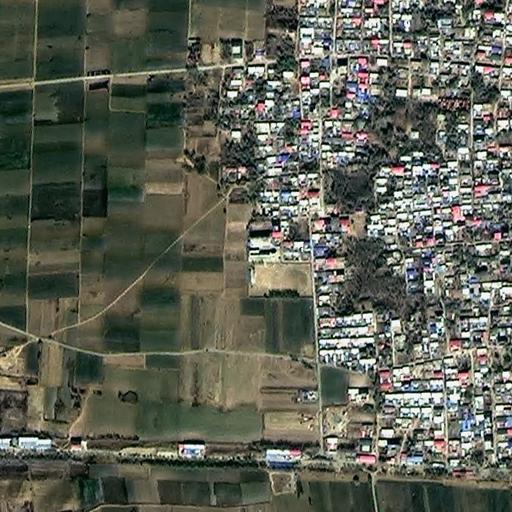school: (248, 235, 315, 299)
